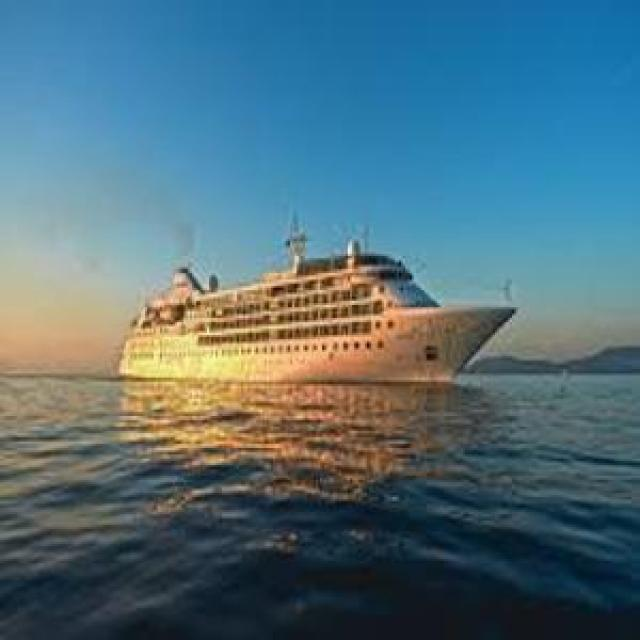passenger ship: (117, 217, 509, 386)
